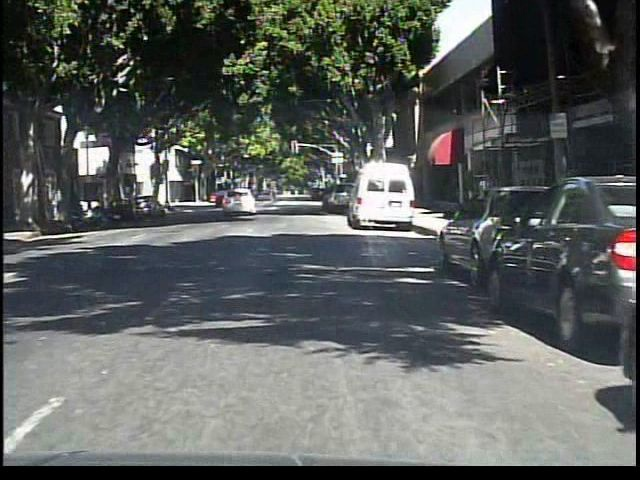person: (471, 167, 499, 226), (263, 178, 283, 212)
